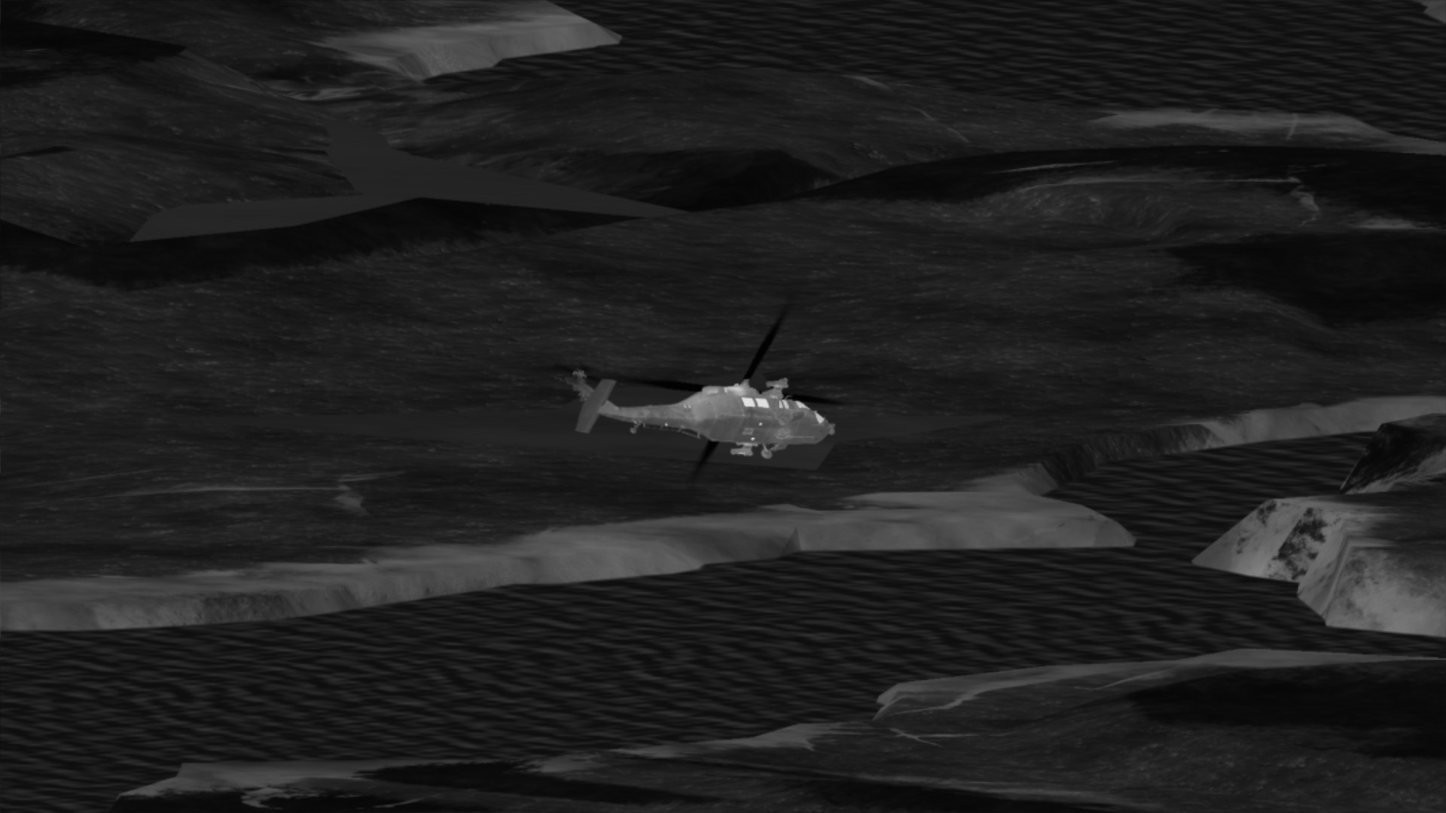ah/uh60: (560, 367, 834, 460)
